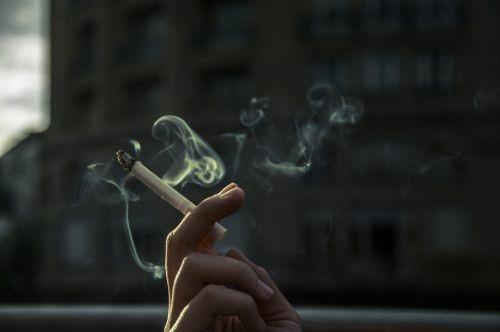cigarette: (114, 150, 228, 241)
